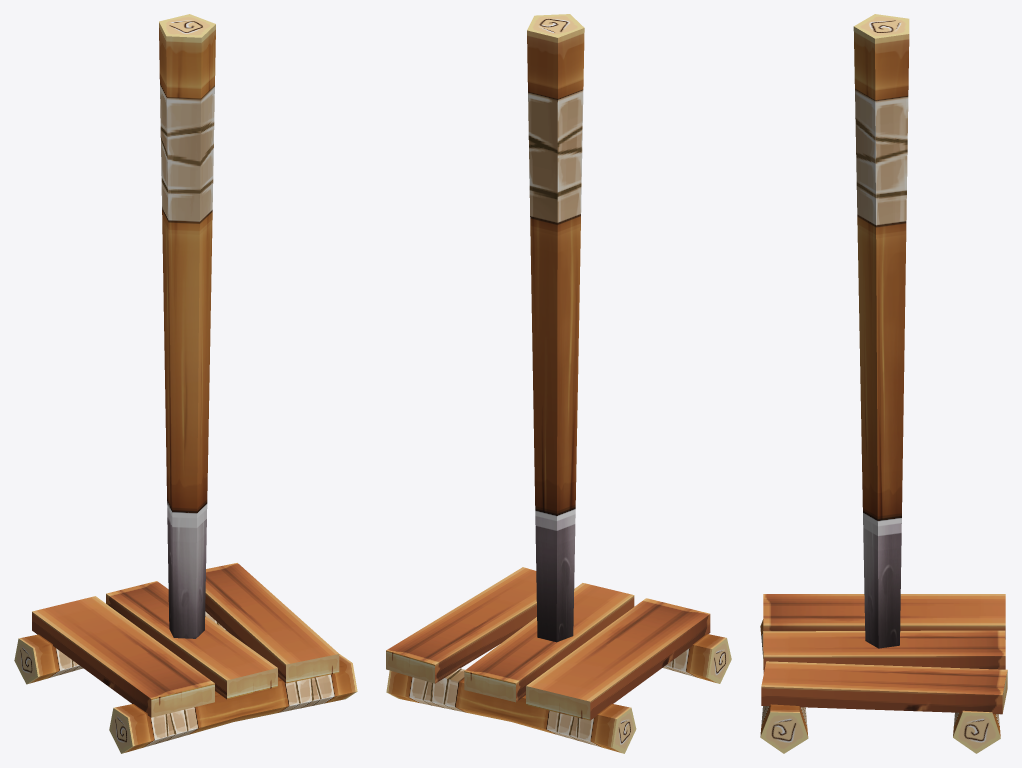
Rendered from raft_with_mast.glb.
3 views of the same model, side by side, from view 1: azimuth 30°, elevation 25°; view 2: azimuth 150°, elevation 25°; view 3: azimuth 270°, elevation 25° (orthographic).
Parts seen in each view (by area): view 1: pirat_wood, pirat_flag.002; view 2: pirat_wood, pirat_flag.002; view 3: pirat_wood, pirat_flag.002.
Boxes of the visible parts, box(x1,y1,x2,y2) form: pirat_wood: box(14, 563, 357, 753); pirat_flag.002: box(159, 14, 215, 638); pirat_wood: box(386, 567, 731, 753); pirat_flag.002: box(527, 14, 584, 642); pirat_wood: box(760, 594, 1007, 753); pirat_flag.002: box(853, 14, 909, 648).
Size of the model in its own units: 1.47 by 4.15 by 1.38.
Materials: 1 (1 with a texture image).
